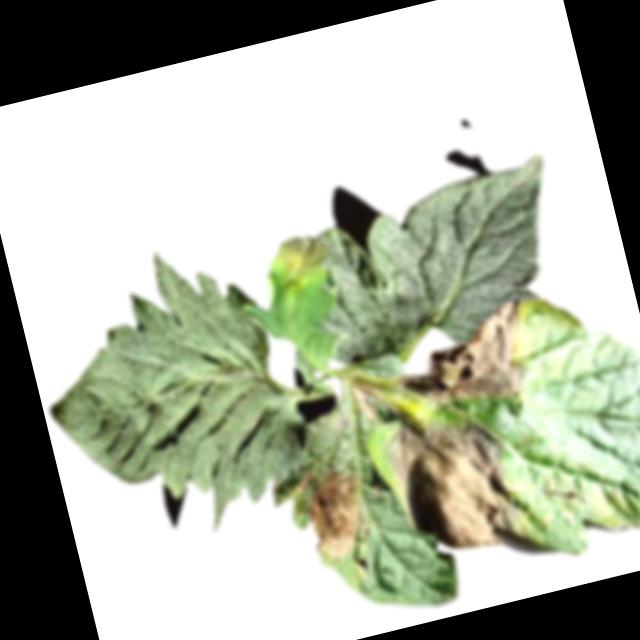Late_blight: (374, 401, 528, 567), (380, 299, 529, 424), (297, 464, 376, 569), (269, 227, 338, 289), (348, 377, 379, 422)
healthy: (17, 227, 321, 547), (310, 152, 581, 372)
